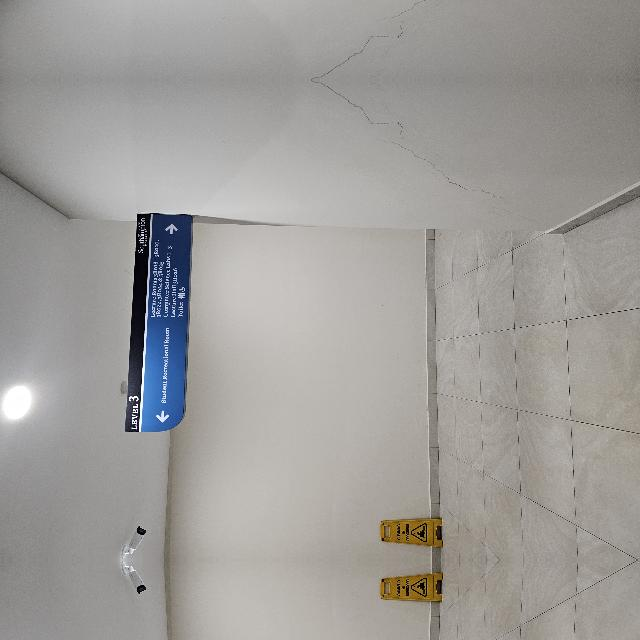obstacle: (11, 458, 45, 524), (11, 596, 45, 640)
